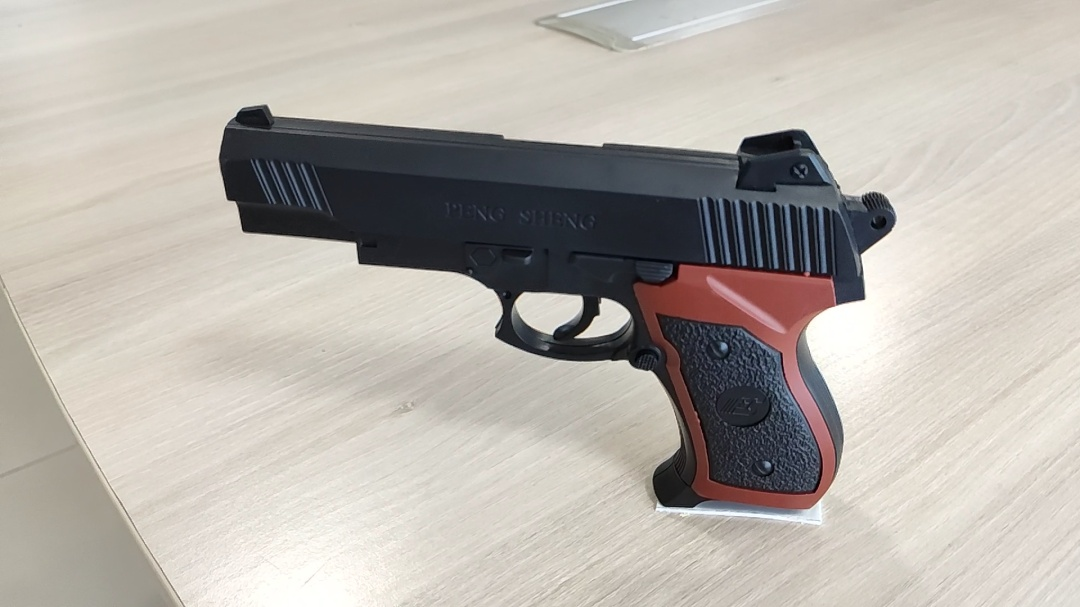gun: (426, 276, 594, 465)
